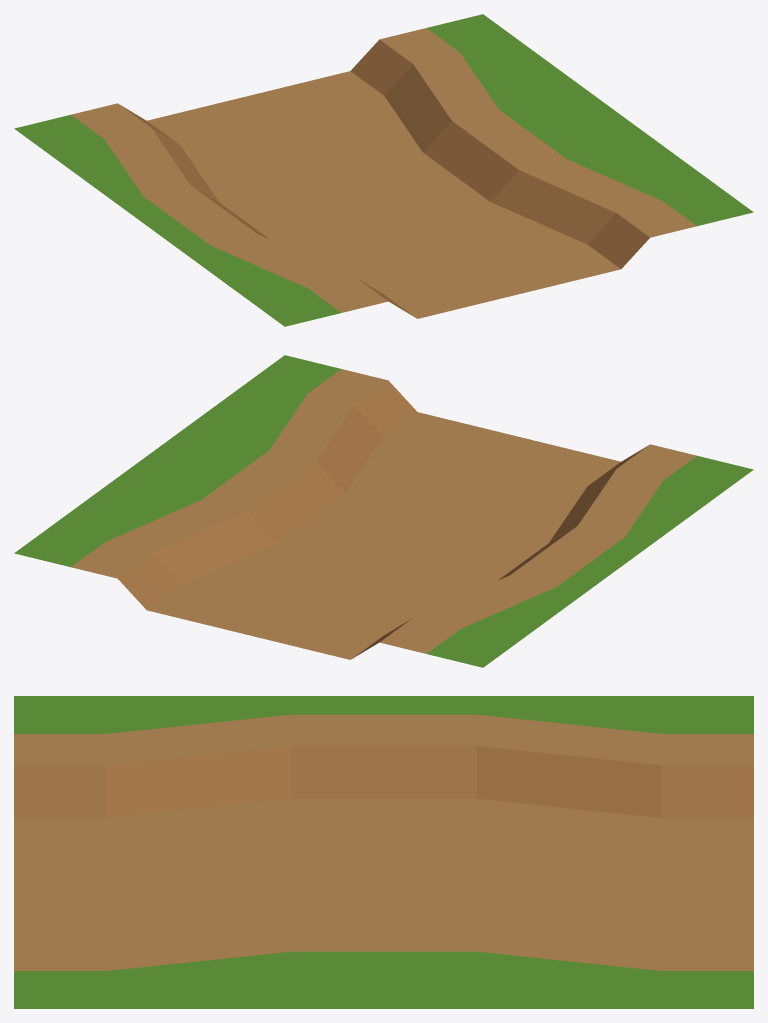
Rendered from ground_pathStraight.glb.
3 renders of one model, top to bottom at view 1: azimuth 30°, elevation 25°; view 2: azimuth 150°, elevation 25°; view 3: azimuth 270°, elevation 25°, orthographic. The views are drawn at different scales.
Parts seen in each view (by area): view 1: ground_pathStraight; view 2: ground_pathStraight; view 3: ground_pathStraight.
Part boxes in pixels (x1,y1,x2,y2): ground_pathStraight: (14, 14, 753, 326); ground_pathStraight: (14, 355, 753, 667); ground_pathStraight: (14, 696, 753, 1008).
Size of the model in its own units: 1 by 0.05 by 1.
